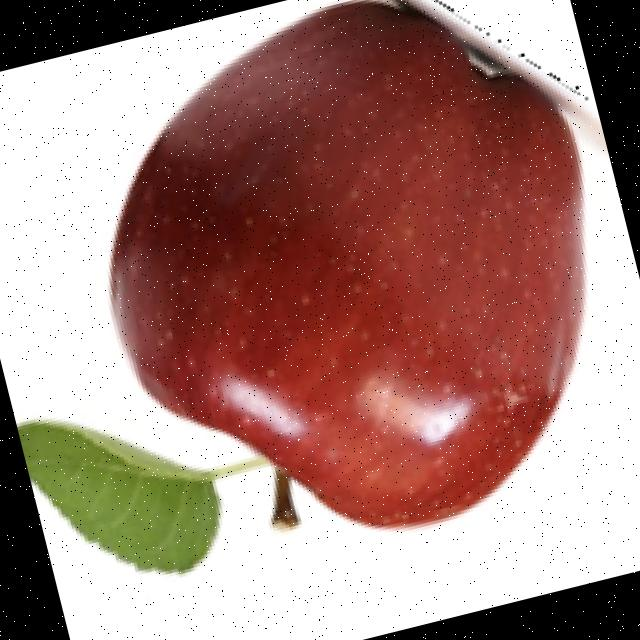apple: (103, 0, 606, 537)
